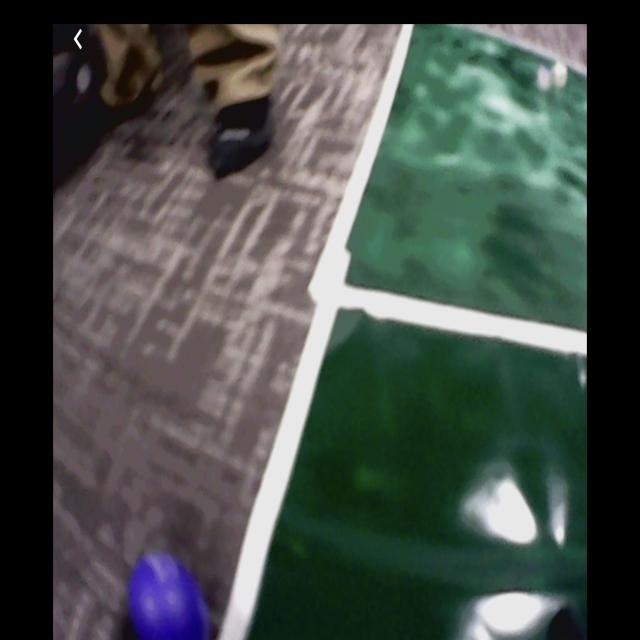ball: (130, 554, 209, 640)
